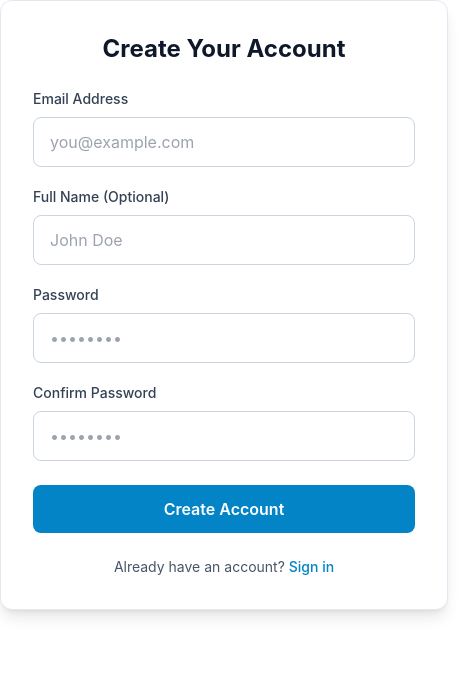
RegisterForm Component › Form Validation › should show error when confirm password is empty
The image size is (465, 684).
Type "password123" into the password field labelled "Password". click: (224, 338)
box: [33,313,415,363]
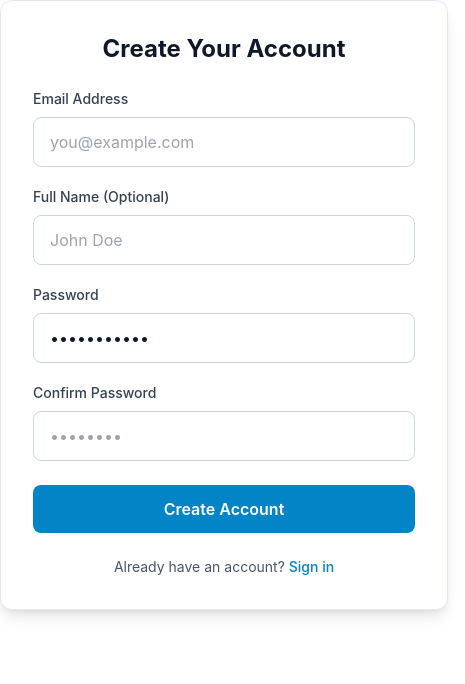
Click the button "Create Account". click: click(224, 509)
box: [33,485,415,533]
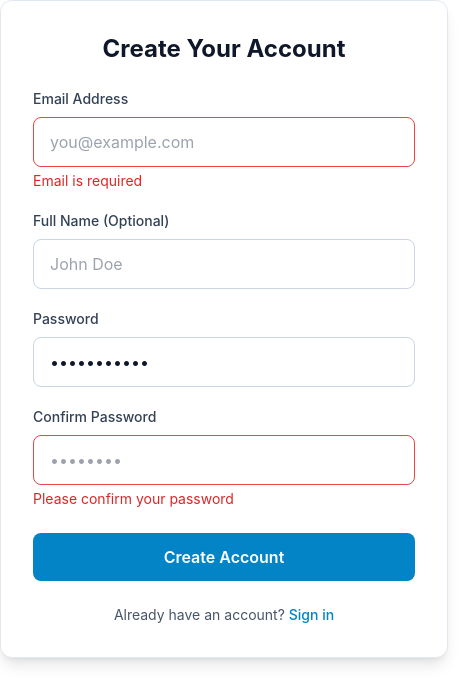
Now the text "Please confirm your password" is shown, box [33,490,234,507]
